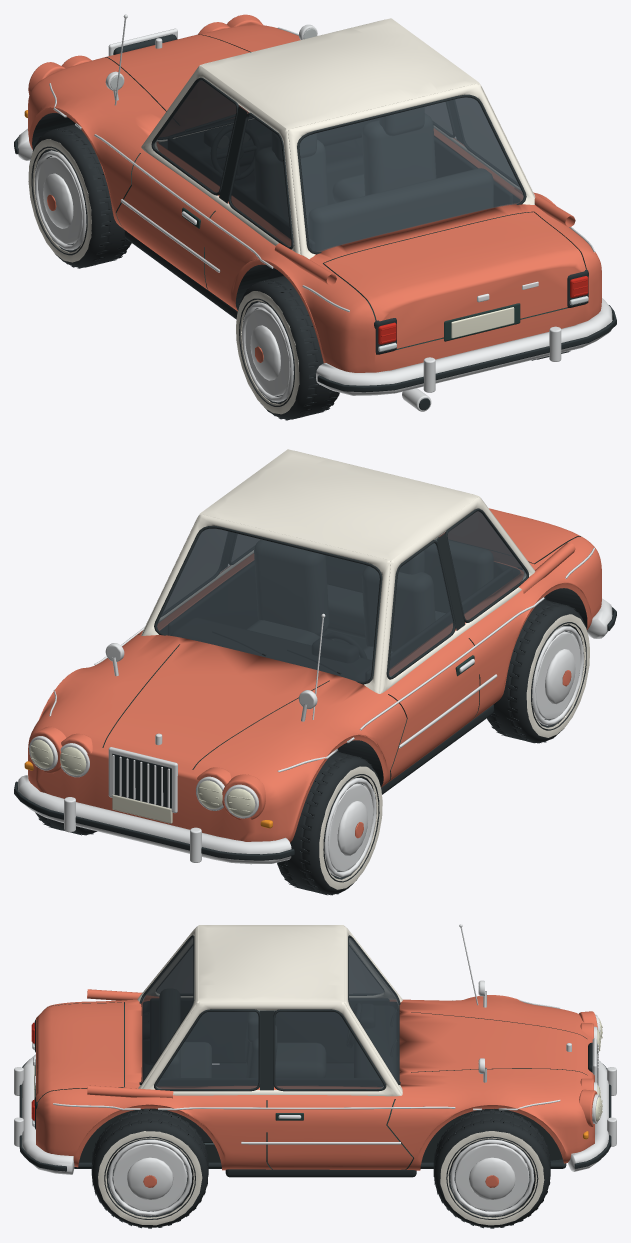
File: ritz_lod1.fbx
The picture shows the model from 3 angles, top to bottom: view 1: azimuth 30°, elevation 25°; view 2: azimuth 150°, elevation 25°; view 3: azimuth 270°, elevation 25°; orthographic projection. The views are drawn at different scales.
Parts seen in each view (by area): view 1: Body, Wheel_FL_Mesh, Wheel_RL_Mesh; view 2: Body, Wheel_FL_Mesh, Wheel_RL_Mesh; view 3: Body, Wheel_FR_Mesh, Wheel_RR_Mesh.
Part boxes in pixels (box(x1,y1,x2,y2)): Body: box(14, 14, 616, 411); Wheel_FL_Mesh: box(28, 124, 131, 268); Wheel_RL_Mesh: box(236, 275, 339, 420); Body: box(14, 449, 616, 864); Wheel_FL_Mesh: box(277, 751, 382, 895); Wheel_RL_Mesh: box(487, 599, 589, 743); Body: box(14, 924, 616, 1177); Wheel_FR_Mesh: box(433, 1109, 550, 1228); Wheel_RR_Mesh: box(91, 1109, 208, 1228).
Size of the model in its own units: 206 by 168 by 423.
